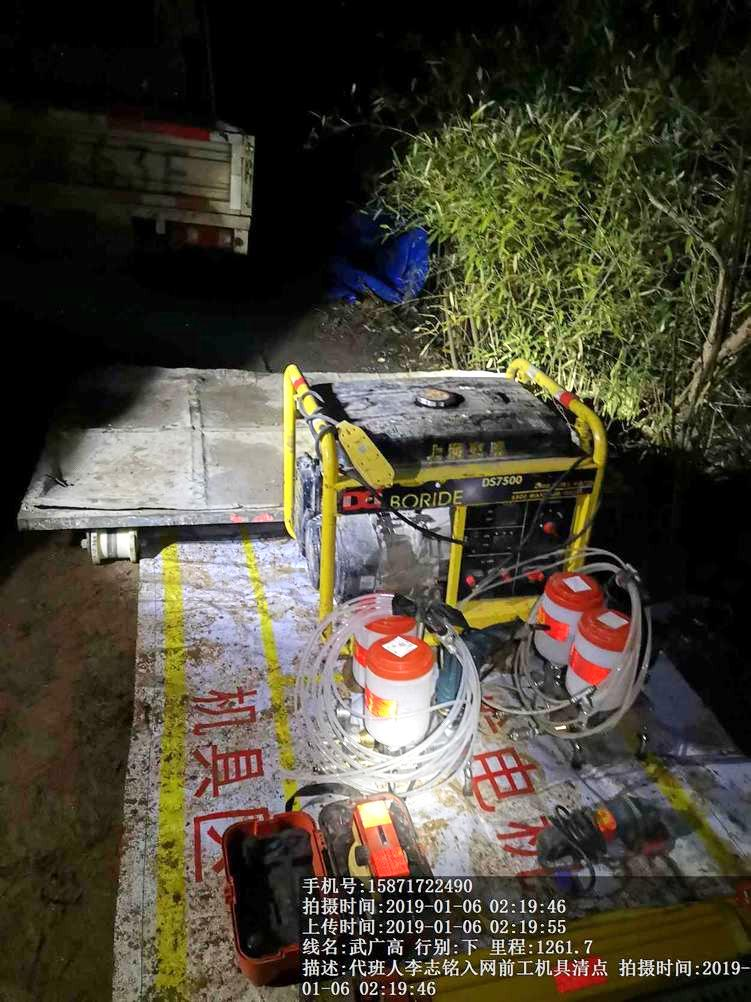DJ: (277, 356, 618, 585)
